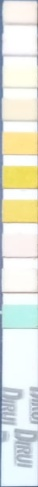color 1: (4, 5, 36, 22)
color 10: (3, 306, 38, 327)
color 2: (3, 36, 35, 53)
color 3: (4, 67, 36, 85)
color 4: (3, 100, 36, 119)
color 5: (3, 133, 36, 153)
color 6: (3, 167, 36, 187)
color 7: (3, 200, 36, 221)
color 8: (3, 236, 36, 255)
color 9: (3, 271, 36, 291)
